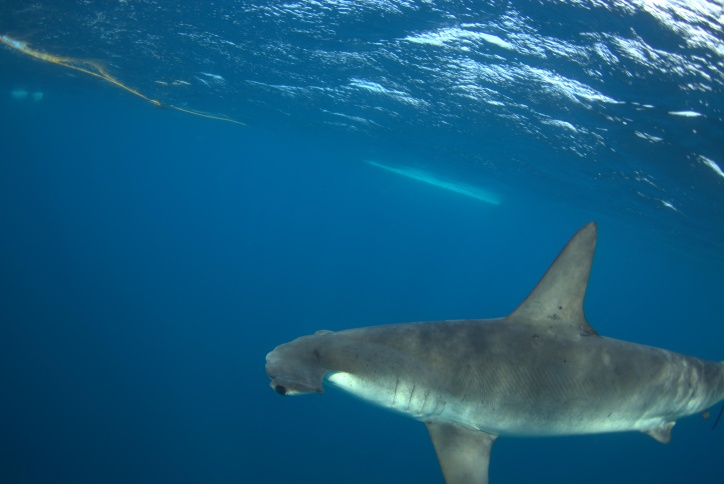Hammer: (222, 199, 724, 473)
